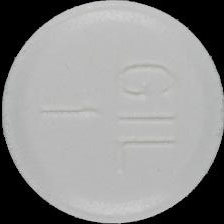43353-015: (0, 0, 224, 224)
